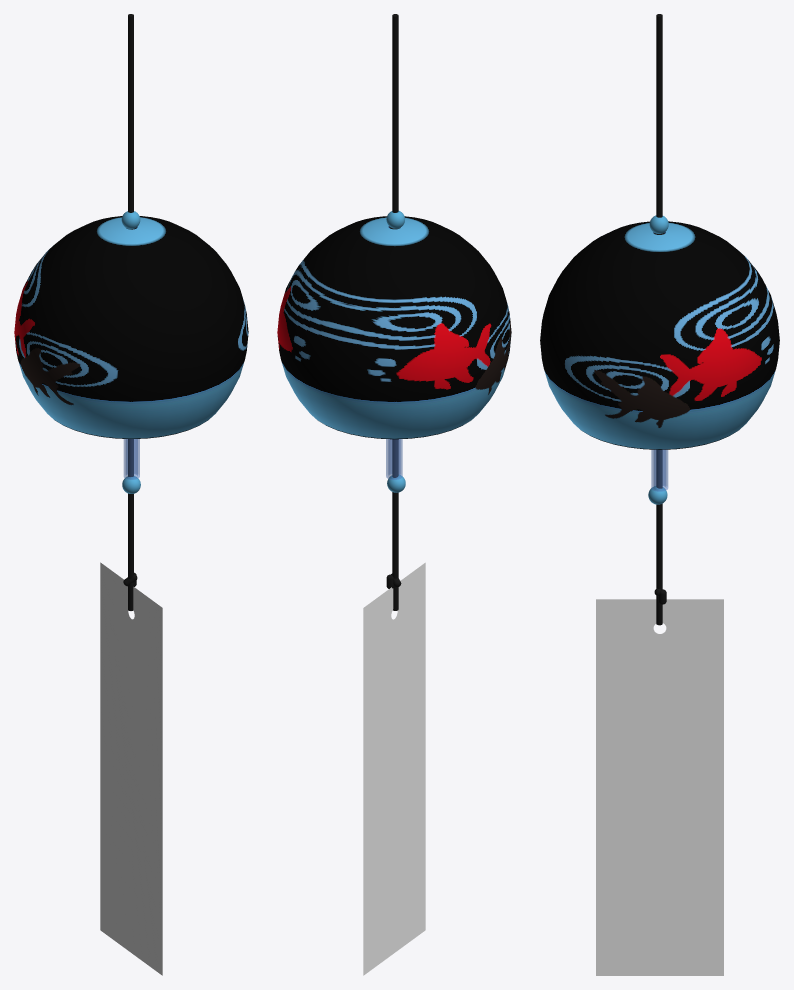
Rendered from windChimes.glb.
3 renders of one model, left to right at view 1: azimuth 30°, elevation 25°; view 2: azimuth 150°, elevation 25°; view 3: azimuth 270°, elevation 25°, orthographic. The views are drawn at different scales.
Visible parts, largest first — view 1: G-Object.012, G-Object.022, G-Object.018, G-Object.014; view 2: G-Object.012, G-Object.022, G-Object.018, G-Object.014; view 3: G-Object.022, G-Object.012, G-Object.018, G-Object.014.
Part boxes in pixels (box(x1,y1,x2,y2)): G-Object.012: box(14, 216, 248, 438); G-Object.022: box(100, 562, 162, 975); G-Object.018: box(128, 14, 133, 610); G-Object.014: box(123, 439, 139, 479); G-Object.012: box(277, 216, 511, 439); G-Object.022: box(363, 562, 425, 975); G-Object.018: box(392, 14, 398, 610); G-Object.014: box(386, 439, 402, 479); G-Object.022: box(596, 599, 723, 975); G-Object.012: box(540, 221, 779, 449); G-Object.018: box(656, 14, 662, 625); G-Object.014: box(651, 449, 668, 491).
Size of the model in its own units: 0.075 by 0.3314 by 0.075.
Materials: 6 (1 with a texture image).
